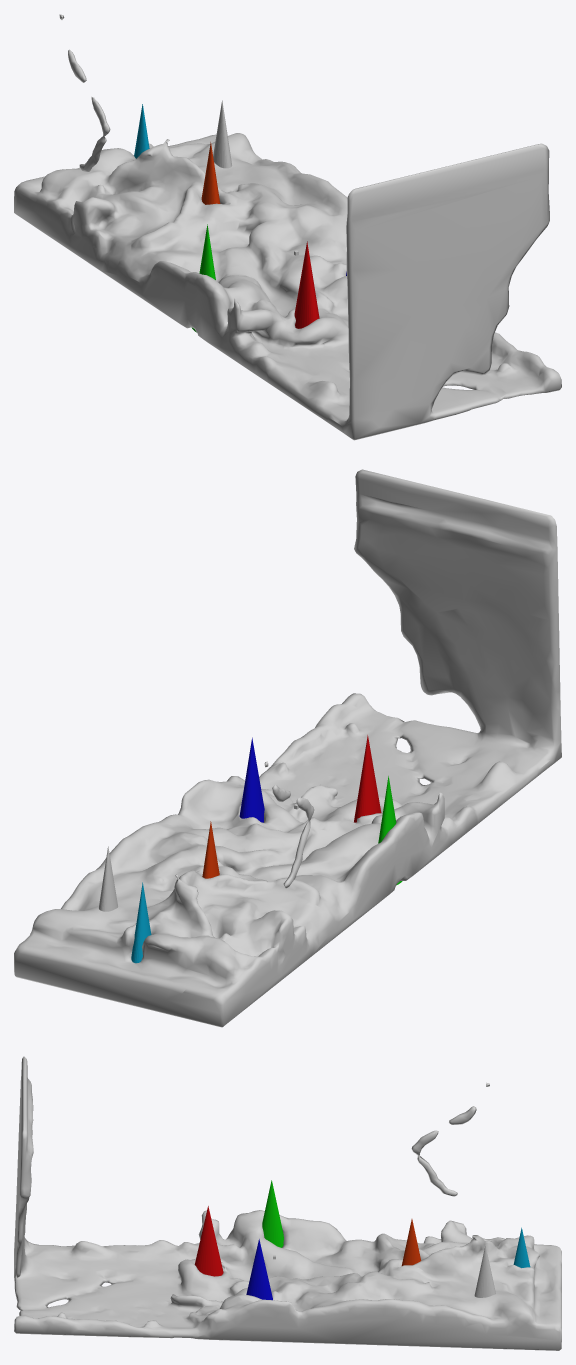
3 views of the same model, one above another, from view 1: azimuth 30°, elevation 25°; view 2: azimuth 150°, elevation 25°; view 3: azimuth 270°, elevation 25° (orthographic). The views are drawn at different scales.
Parts seen in each view (by area): view 1: Liquid_Domain, 円錐.001, 円錐, 円錐.004; view 2: Liquid_Domain, 円錐.001, 円錐.002, 円錐.005, 円錐; view 3: Liquid_Domain, 円錐.001, 円錐.003, 円錐.002, 円錐, 円錐.004, 円錐.005.
Part boxes in pixels (x1=…): Liquid_Domain: x1=14, y1=14, x2=561, y2=440; 円錐.001: x1=294, y1=241, x2=319, y2=328; 円錐: x1=213, y1=100, x2=231, y2=168; 円錐.004: x1=201, y1=142, x2=220, y2=204; Liquid_Domain: x1=14, y1=469, x2=561, y2=1027; 円錐.001: x1=354, y1=735, x2=381, y2=822; 円錐.002: x1=239, y1=737, x2=264, y2=822; 円錐.005: x1=131, y1=882, x2=151, y2=963; 円錐: x1=99, y1=846, x2=117, y2=911; Liquid_Domain: x1=14, y1=1056, x2=561, y2=1350; 円錐.001: x1=194, y1=1206, x2=223, y2=1276; 円錐.003: x1=262, y1=1180, x2=283, y2=1247; 円錐.002: x1=246, y1=1239, x2=272, y2=1300; 円錐: x1=474, y1=1245, x2=495, y2=1297; 円錐.004: x1=401, y1=1219, x2=421, y2=1265; 円錐.005: x1=513, y1=1227, x2=530, y2=1267.
Size of the model in its own units: 129 by 158 by 361.
